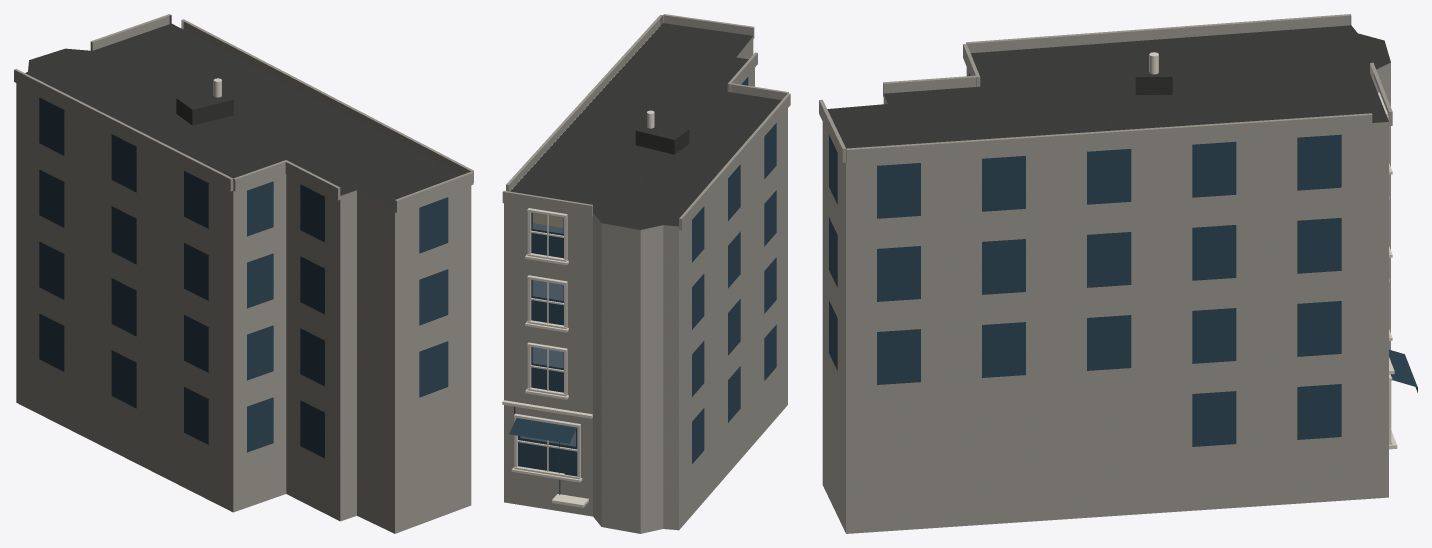
The picture shows the model from 3 angles, left to right: view 1: azimuth 30°, elevation 25°; view 2: azimuth 150°, elevation 25°; view 3: azimuth 270°, elevation 25°; orthographic projection. The views are drawn at different scales.
Visible parts, largest first — view 1: Footprint 0 / surface 2, Footprint 0 / surface 1, Inset glazing, Facade bay volumes, Inferred rooftop service enclosure / surface 5, Inferred rooftop service enclosure / surface 3; view 2: Footprint 0 / surface 2, Footprint 0 / surface 1, Inset glazing, Facade bay volumes, Cornices and window frames, Sky reflection panels, Storefronts and doors, Inferred rooftop service enclosure / surface 6, Inferred rooftop service enclosure / surface 3; view 3: Footprint 0 / surface 2, Inset glazing, Footprint 0 / surface 1, Facade bay volumes, Inferred rooftop service enclosure / surface 3.
Boxes of the visible parts, x1,y1,x2,y2 form: Footprint 0 / surface 2: [16, 83, 471, 533]; Footprint 0 / surface 1: [25, 23, 461, 208]; Inset glazing: [39, 97, 448, 458]; Facade bay volumes: [14, 14, 473, 212]; Inferred rooftop service enclosure / surface 5: [192, 100, 233, 125]; Inferred rooftop service enclosure / surface 3: [176, 89, 233, 109]; Footprint 0 / surface 2: [504, 36, 787, 533]; Footprint 0 / surface 1: [510, 23, 781, 229]; Inset glazing: [518, 77, 776, 476]; Facade bay volumes: [502, 14, 790, 230]; Cornices and window frames: [502, 208, 592, 507]; Sky reflection panels: [520, 213, 575, 446]; Storefronts and doors: [509, 406, 576, 494]; Inferred rooftop service enclosure / surface 6: [635, 130, 674, 154]; Inferred rooftop service enclosure / surface 3: [636, 120, 688, 139]; Footprint 0 / surface 2: [822, 62, 1390, 533]; Inset glazing: [829, 73, 1341, 446]; Footprint 0 / surface 1: [827, 25, 1390, 148]; Facade bay volumes: [819, 14, 1392, 163]; Inferred rooftop service enclosure / surface 3: [1135, 53, 1172, 76].
Bounding box in the file's own units: 10.45 × 14.76 × 19.44.
